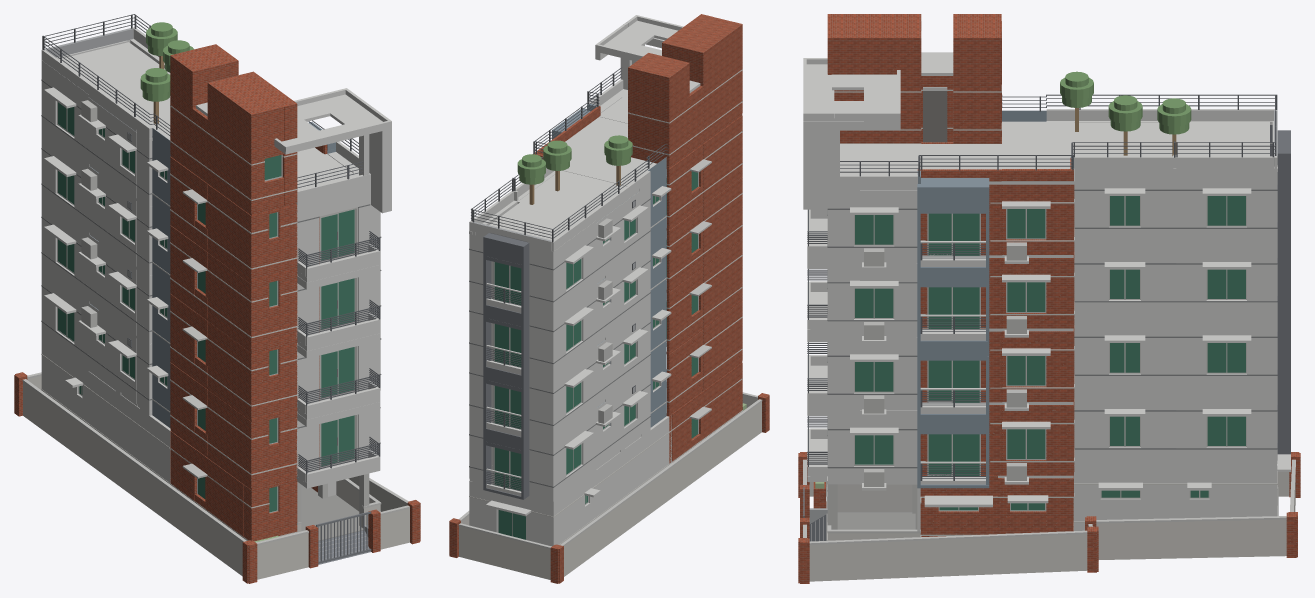
3 renders of one model, left to right at view 1: azimuth 30°, elevation 25°; view 2: azimuth 150°, elevation 25°; view 3: azimuth 270°, elevation 25°, orthographic. The views are drawn at different scales.
Parts seen in each view (by area): view 1: BOUNDARY#843, pylon_head#513, GROUND_FLOOR/full_wall#2000, zone#1641, zone#1608, zone#1630, zone#1619, pylon_head#514, slab#512, zone#0, plinth#797, pylon_head#516 (+79 smaller); view 2: BOUNDARY#843, pylon_head#513, GROUND_FLOOR/full_wall#2000, pylon_head#514, BOUNDARY#839, slab#506, zone#1641, zone#1608, zone#1619, zone#1630, his_balcony_frame/cheek#1369, pylon_head#520 (+64 smaller); view 3: BOUNDARY#827, BOUNDARY#835, pylon_head#516, pylon_head#517, his_balcony_frame/cheek#1370, slab#503, crown_support#681, slab#512, GROUND_FLOOR/room_wall#1965, slab#506, GROUND_FLOOR/stair#2392, slab#499 (+122 smaller).
Boxes of the visible parts, x1=… form: BOUNDARY#843: x1=23, y1=382, x2=242, y2=576; pylon_head#513: x1=207, y1=79, x2=264, y2=213; GROUND_FLOOR/full_wall#2000: x1=89, y1=372, x2=170, y2=482; zone#1641: x1=207, y1=184, x2=254, y2=281; zone#1608: x1=207, y1=390, x2=254, y2=487; zone#1630: x1=207, y1=253, x2=254, y2=350; zone#1619: x1=207, y1=321, x2=254, y2=418; pylon_head#514: x1=170, y1=52, x2=205, y2=170; slab#512: x1=59, y1=42, x2=170, y2=91; zone#0: x1=205, y1=457, x2=243, y2=536; plinth#797: x1=301, y1=495, x2=363, y2=541; pylon_head#516: x1=241, y1=71, x2=297, y2=205; BOUNDARY#843: x1=564, y1=402, x2=761, y2=576; pylon_head#513: x1=691, y1=21, x2=742, y2=141; GROUND_FLOOR/full_wall#2000: x1=596, y1=416, x2=669, y2=516; pylon_head#514: x1=657, y1=60, x2=689, y2=166; BOUNDARY#839: x1=459, y1=526, x2=550, y2=579; slab#506: x1=517, y1=170, x2=626, y2=217; zone#1641: x1=703, y1=115, x2=742, y2=203; zone#1608: x1=703, y1=301, x2=742, y2=389; zone#1619: x1=703, y1=239, x2=742, y2=327; zone#1630: x1=703, y1=177, x2=742, y2=265; his_balcony_frame/cheek#1369: x1=521, y1=243, x2=529, y2=499; pylon_head#520: x1=639, y1=55, x2=677, y2=163; BOUNDARY#827: x1=809, y1=534, x2=1087, y2=581; BOUNDARY#835: x1=1096, y1=519, x2=1286, y2=559; pylon_head#516: x1=827, y1=31, x2=921, y2=143; pylon_head#517: x1=953, y1=31, x2=1001, y2=143; his_balcony_frame/cheek#1370: x1=1277, y1=153, x2=1290, y2=454; slab#503: x1=1002, y1=121, x2=1074, y2=177; crown_support#681: x1=803, y1=121, x2=839, y2=209; slab#512: x1=1177, y1=122, x2=1269, y2=156; GROUND_FLOOR/room_wall#1965: x1=1214, y1=465, x2=1274, y2=517; slab#506: x1=1074, y1=122, x2=1176, y2=156; GROUND_FLOOR/stair#2392: x1=837, y1=484, x2=912, y2=512; slab#499: x1=921, y1=144, x2=1001, y2=169.
Size of the model in its own units: 8.06 by 20.24 by 18.89.
Materials: 1 (1 with a texture image).
